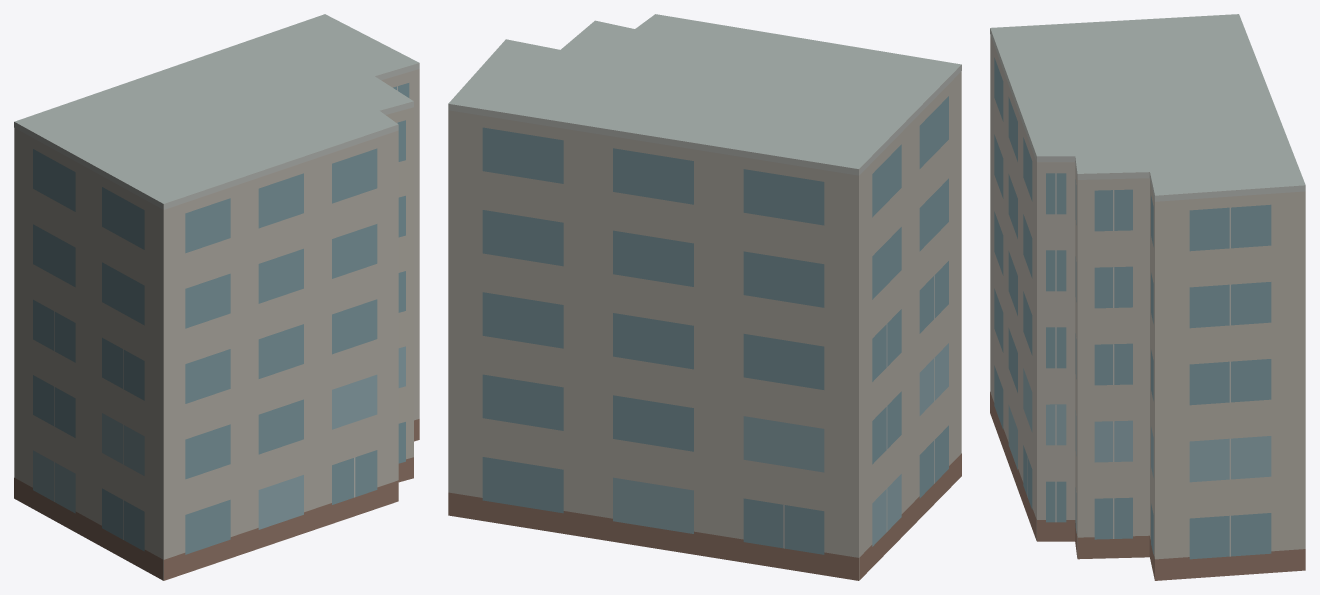
File: survey-upis-33024983.glb
The picture shows the model from 3 angles, left to right: view 1: azimuth 30°, elevation 25°; view 2: azimuth 150°, elevation 25°; view 3: azimuth 270°, elevation 25°; orthographic projection. The views are drawn at different scales.
Visible parts, largest first — view 1: survey-upis-33024983.tmp; view 2: survey-upis-33024983.tmp; view 3: survey-upis-33024983.tmp.
Boxes of the visible parts, x1=… form: survey-upis-33024983.tmp: x1=14, y1=14, x2=419, y2=580; survey-upis-33024983.tmp: x1=448, y1=14, x2=961, y2=580; survey-upis-33024983.tmp: x1=990, y1=14, x2=1305, y2=580.
Size of the model in its own units: 15.59 by 15.4 by 11.45.
